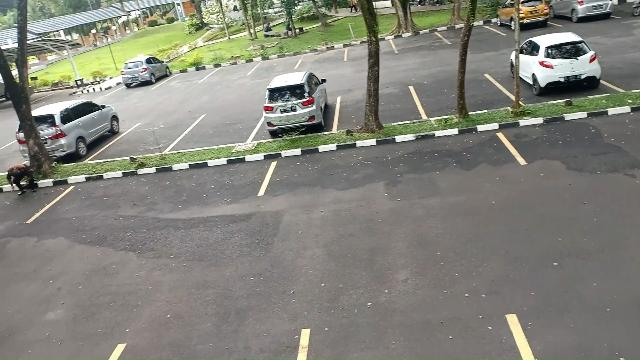empty: (266, 134, 516, 202), (38, 164, 272, 226), (336, 86, 422, 128), (418, 74, 502, 116), (180, 110, 260, 150), (110, 119, 180, 158), (346, 34, 392, 62), (298, 44, 348, 68), (392, 30, 442, 54), (168, 66, 214, 90), (442, 22, 494, 43), (252, 52, 302, 72), (211, 57, 253, 78)
occupied: (502, 47, 606, 98), (259, 80, 337, 140), (44, 105, 120, 165), (492, 0, 552, 34), (119, 60, 170, 90)
